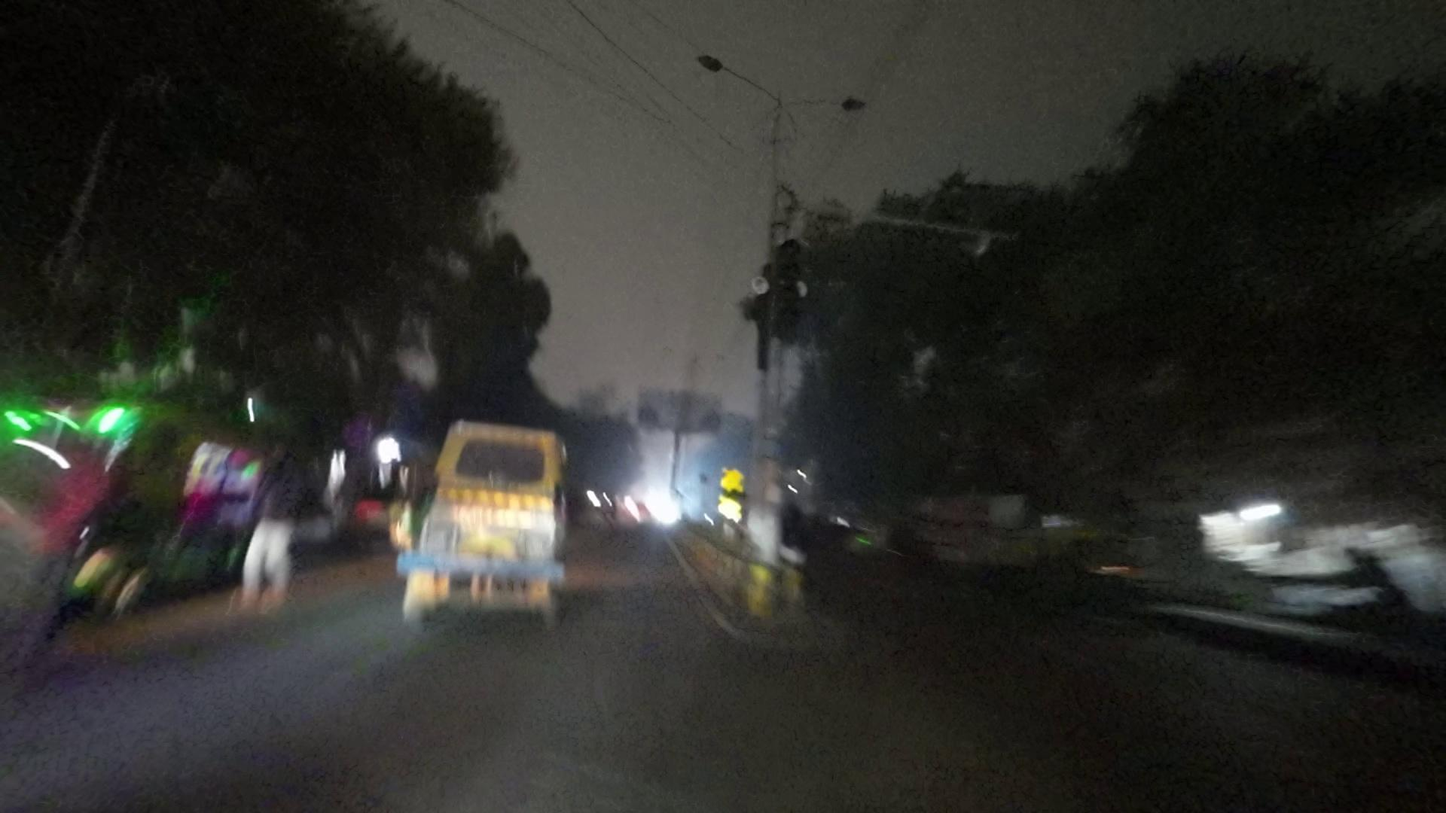streetlight: (696, 52, 776, 98), (781, 92, 869, 119)
